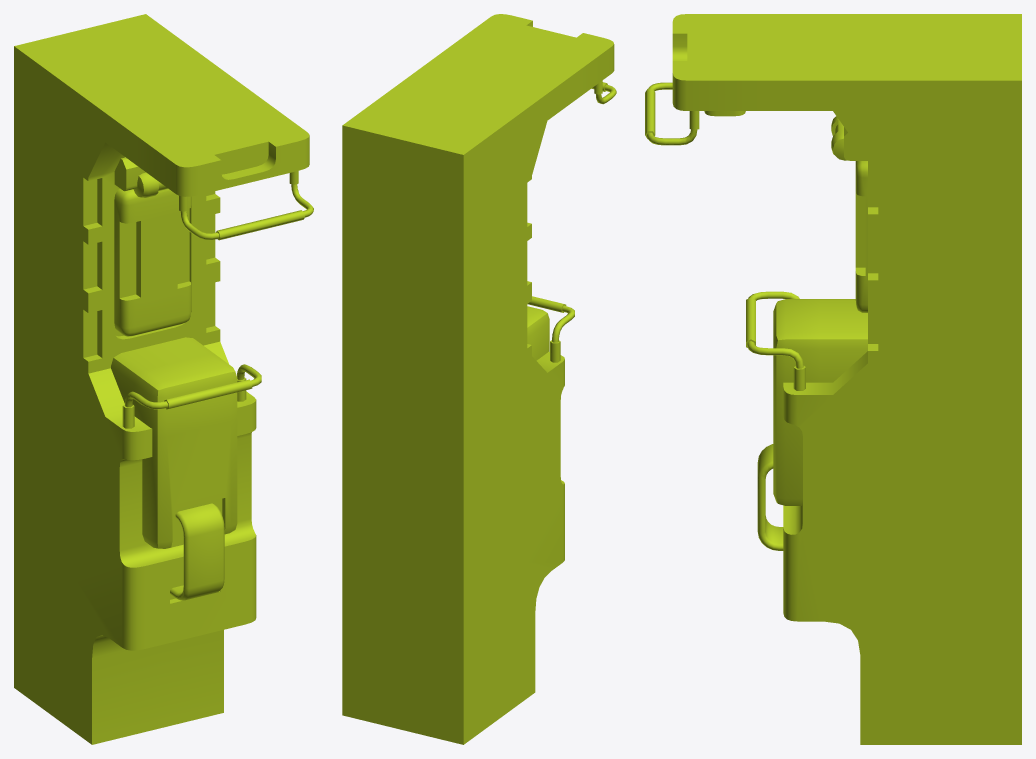
Rendered from Column_A.FBX.
3 renders of one model, left to right at view 1: azimuth 30°, elevation 25°; view 2: azimuth 150°, elevation 25°; view 3: azimuth 270°, elevation 25°, orthographic. The views are drawn at different scales.
Parts seen in each view (by area): view 1: Column_A; view 2: Column_A; view 3: Column_A.
Boxes of the visible parts, x1,y1,x2,y2 form: Column_A: [14, 14, 313, 744]; Column_A: [342, 14, 616, 744]; Column_A: [645, 14, 1021, 744].
Size of the model in its own units: 100 by 465 by 239.
